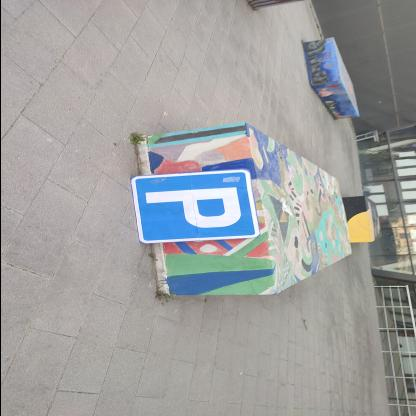Parking-Sign: (131, 170, 261, 245)
